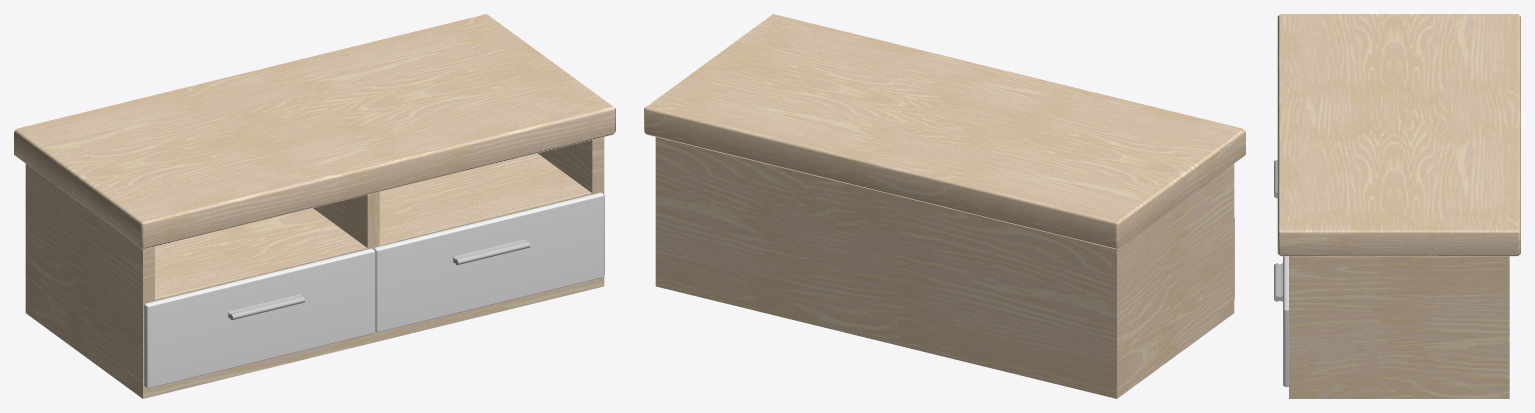
The model's file is wall_cabinet_019.fbx.
3 renders of one model, left to right at view 1: azimuth 30°, elevation 25°; view 2: azimuth 150°, elevation 25°; view 3: azimuth 270°, elevation 25°, orthographic. The views are drawn at different scales.
Visible parts, largest first — view 1: wall_cabinet_019; view 2: wall_cabinet_019; view 3: wall_cabinet_019.
Boxes of the visible parts, x1,y1,x2,y2 form: wall_cabinet_019: (14,14,615,398); wall_cabinet_019: (644,14,1245,398); wall_cabinet_019: (1274,14,1520,398).
Size of the model in its own units: 218 by 104 by 79.82.
